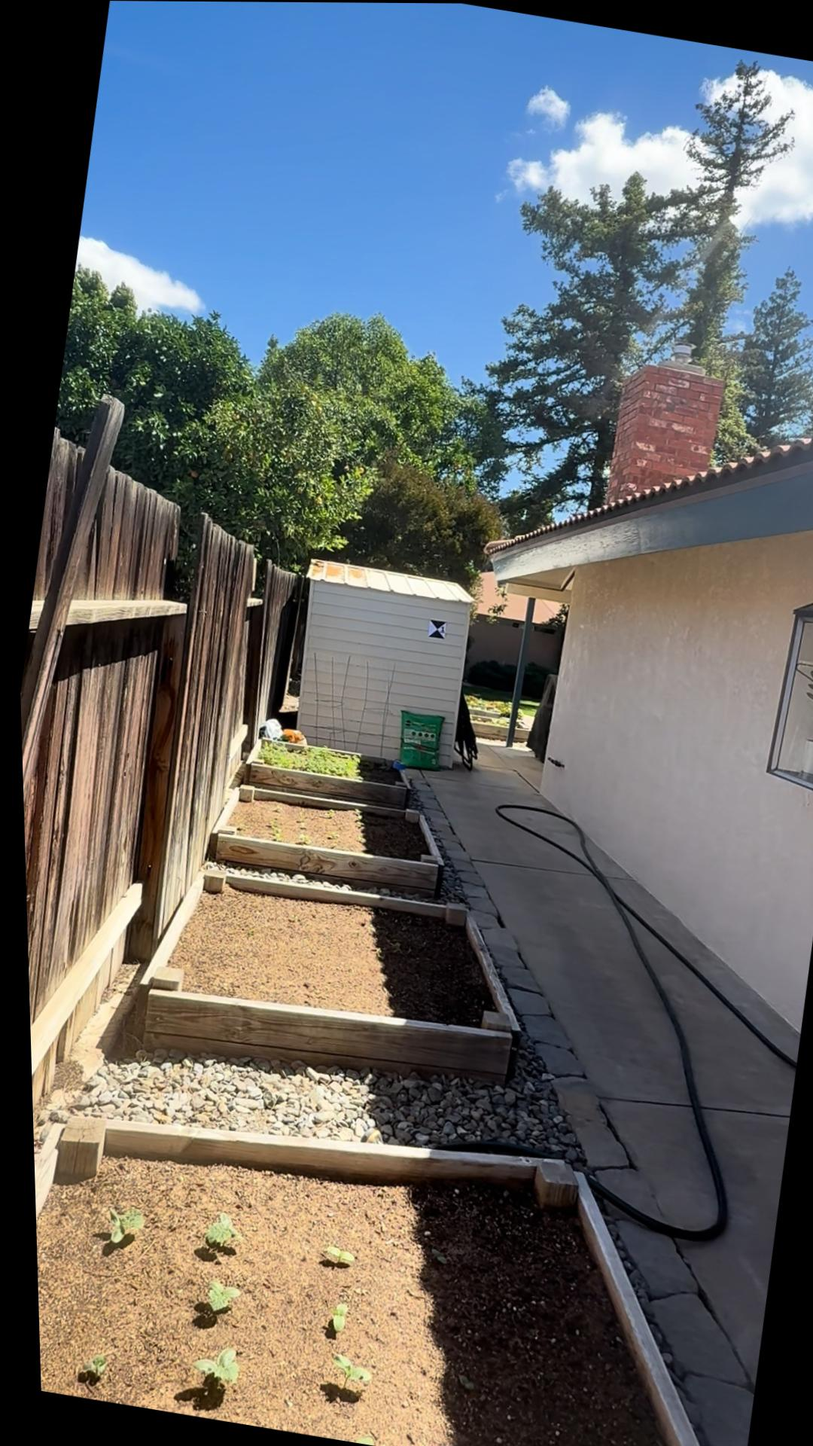target1: (427, 617, 451, 641)
